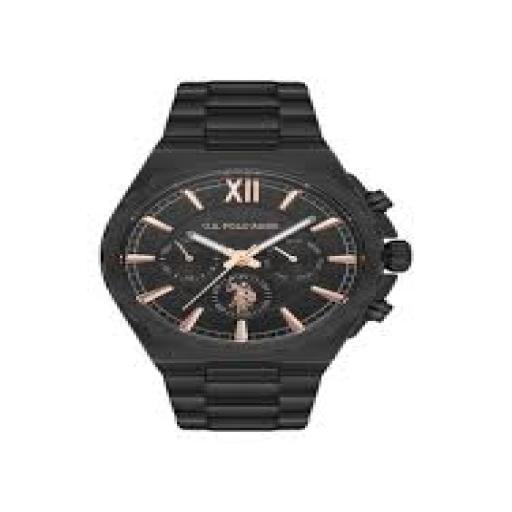KolSaati: (85, 54, 427, 438)
